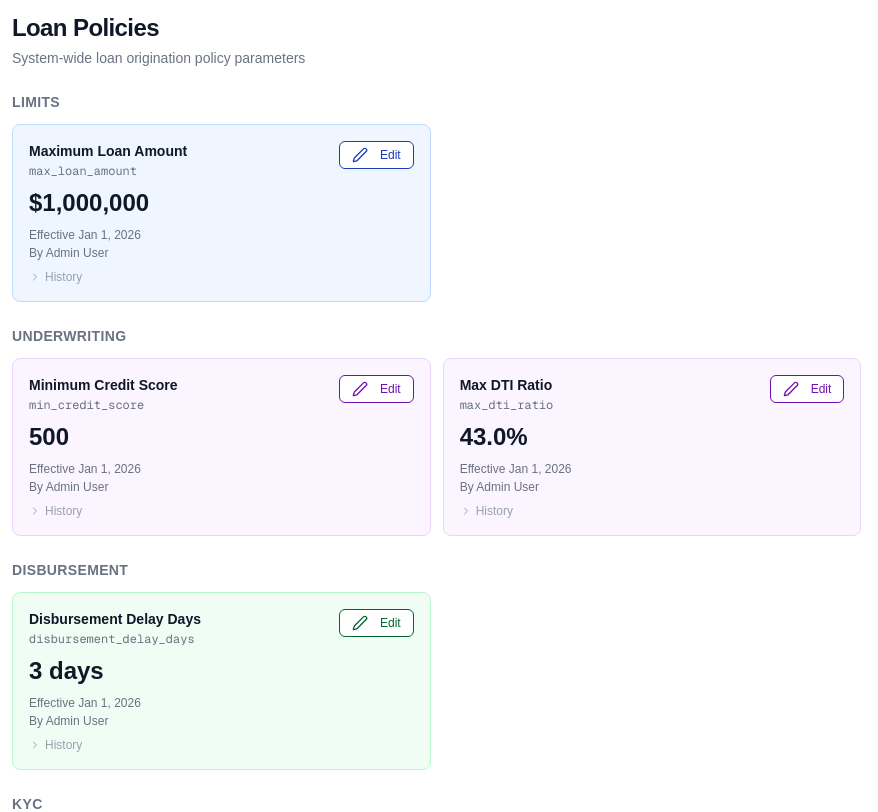
Test: PoliciesPage › edit form › shows confirmation step after Review Changes click
Click the button "Edit" next to "Maximum Loan Amount". click: {"x": 376, "y": 155}
box: x1=339 y1=141 x2=414 y2=169
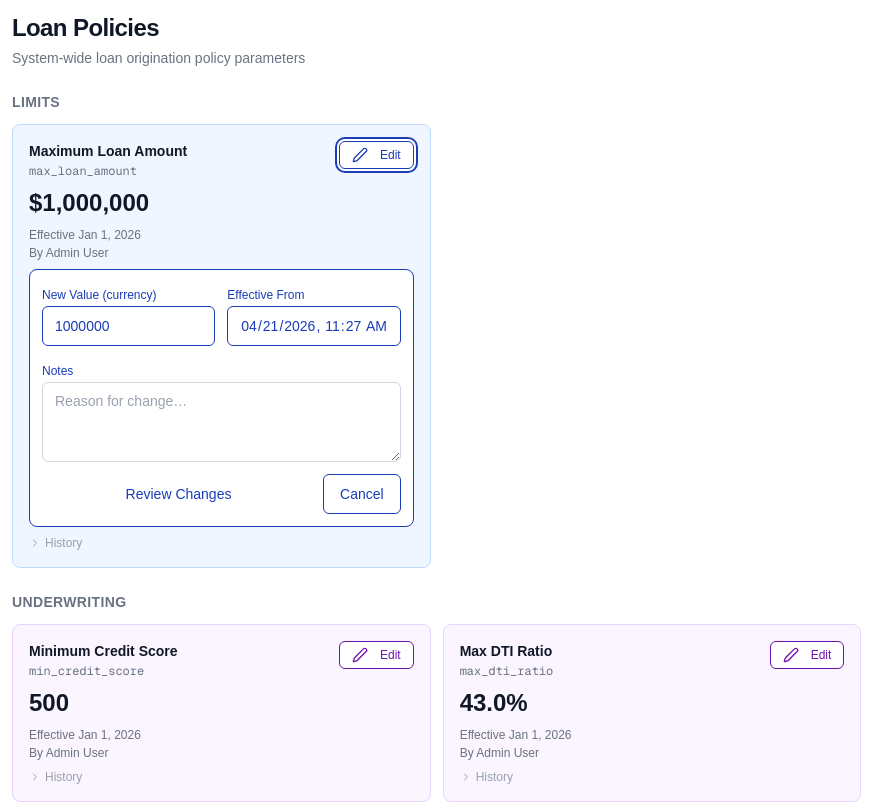
Expected: the button "Review Changes" is shown
Click the button "Review Changes". click: {"x": 179, "y": 494}
box: x1=42 y1=474 x2=315 y2=514
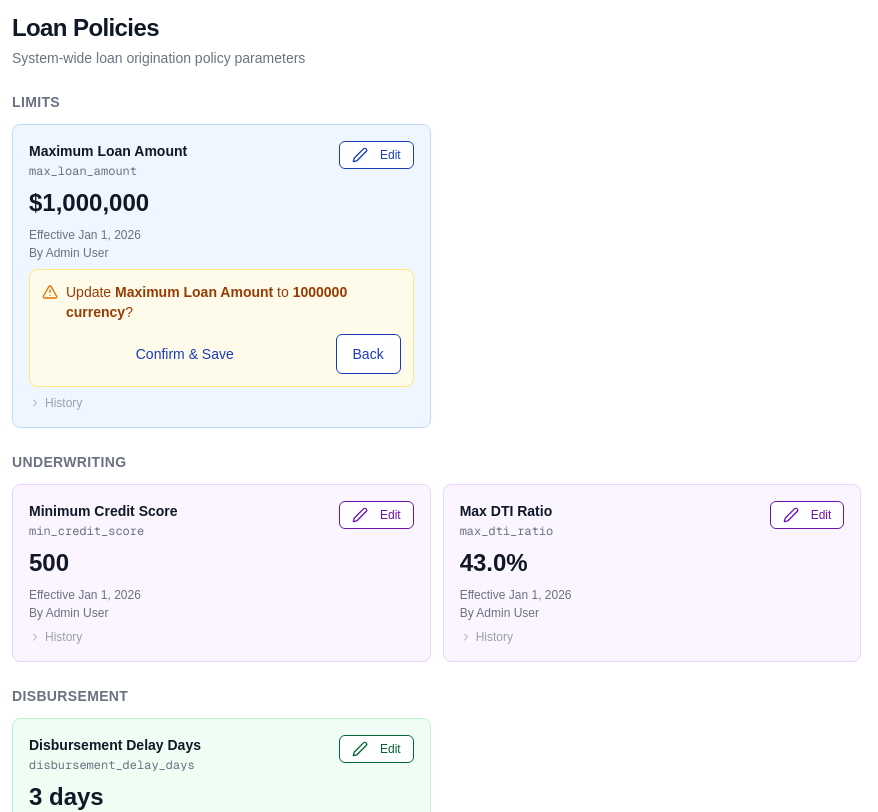
Expected: the button "Confirm & Save" is shown, x1=42 y1=334 x2=328 y2=374
